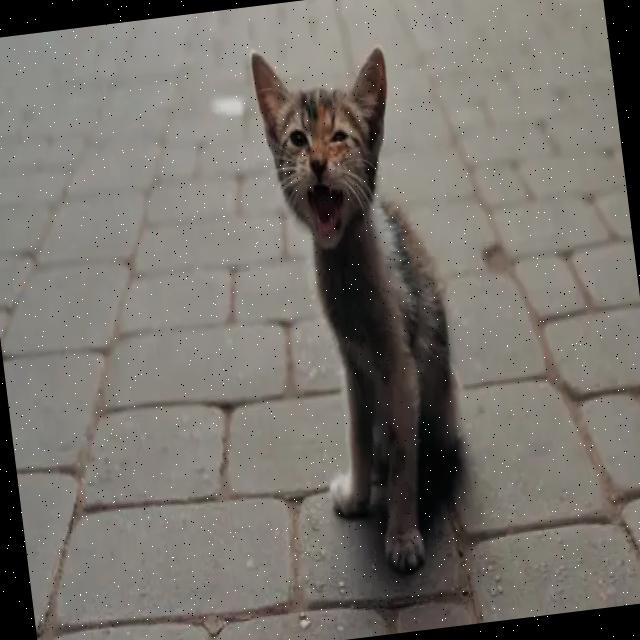cat: (248, 48, 465, 576)
